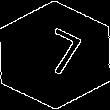L_SW: (25, 26, 85, 84)
